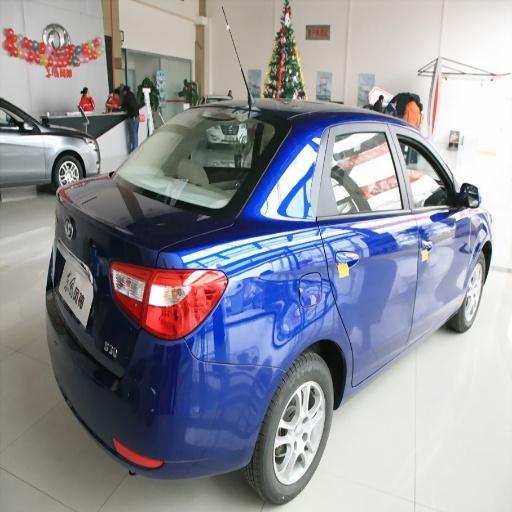back_bumper: (61, 313, 275, 486)
back_left_light: (109, 264, 174, 335)
back_right_door: (316, 123, 419, 380)
back_right_light: (152, 266, 227, 337)
tailgate: (63, 179, 217, 330)
